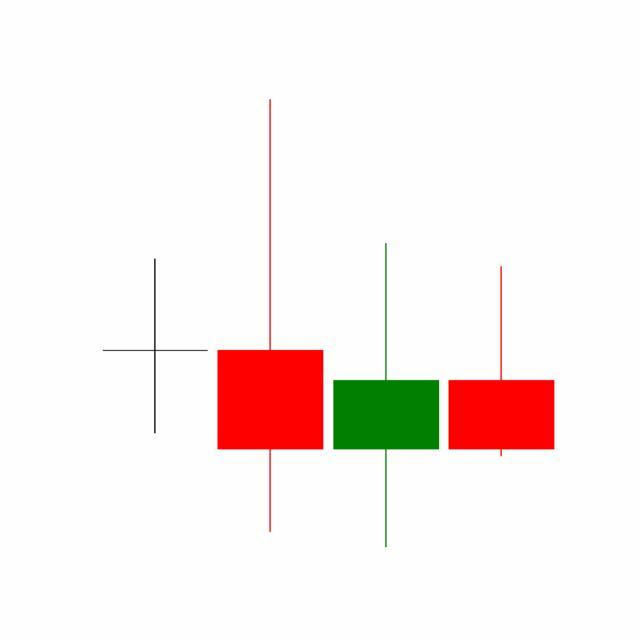Spinning Top: (329, 241, 445, 552)
